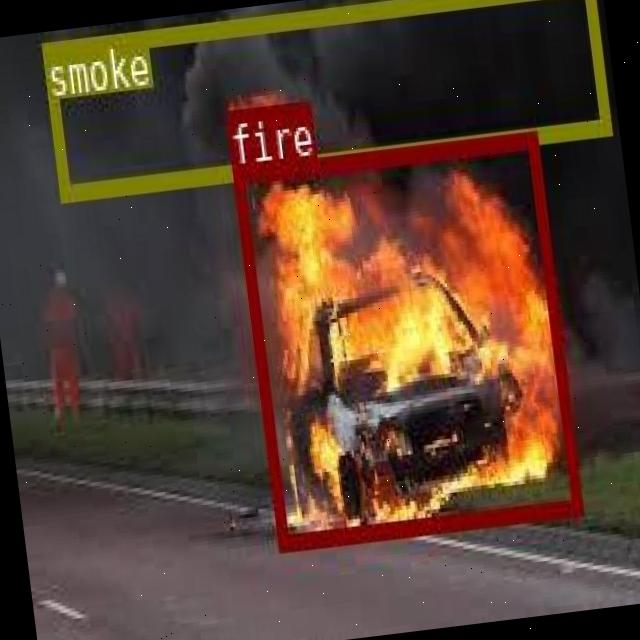fire: (232, 130, 580, 548)
smoke: (39, 0, 609, 199)
